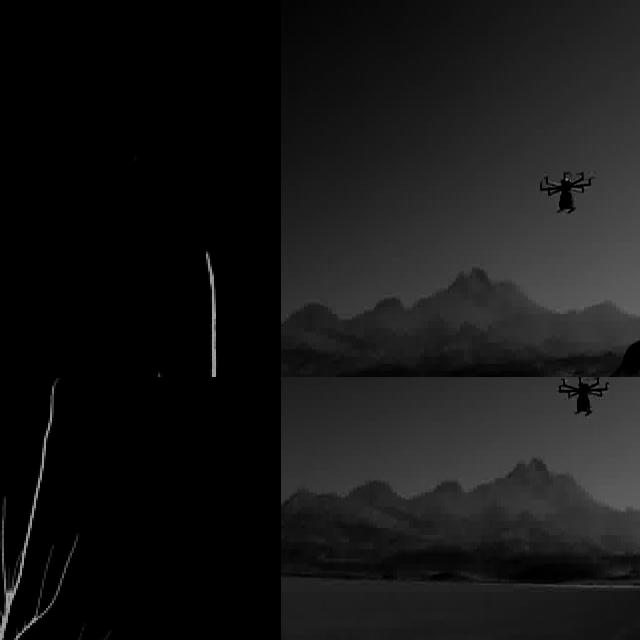0: (125, 144, 147, 176), (252, 506, 272, 536)
drone: (539, 163, 596, 218), (554, 377, 610, 419)
